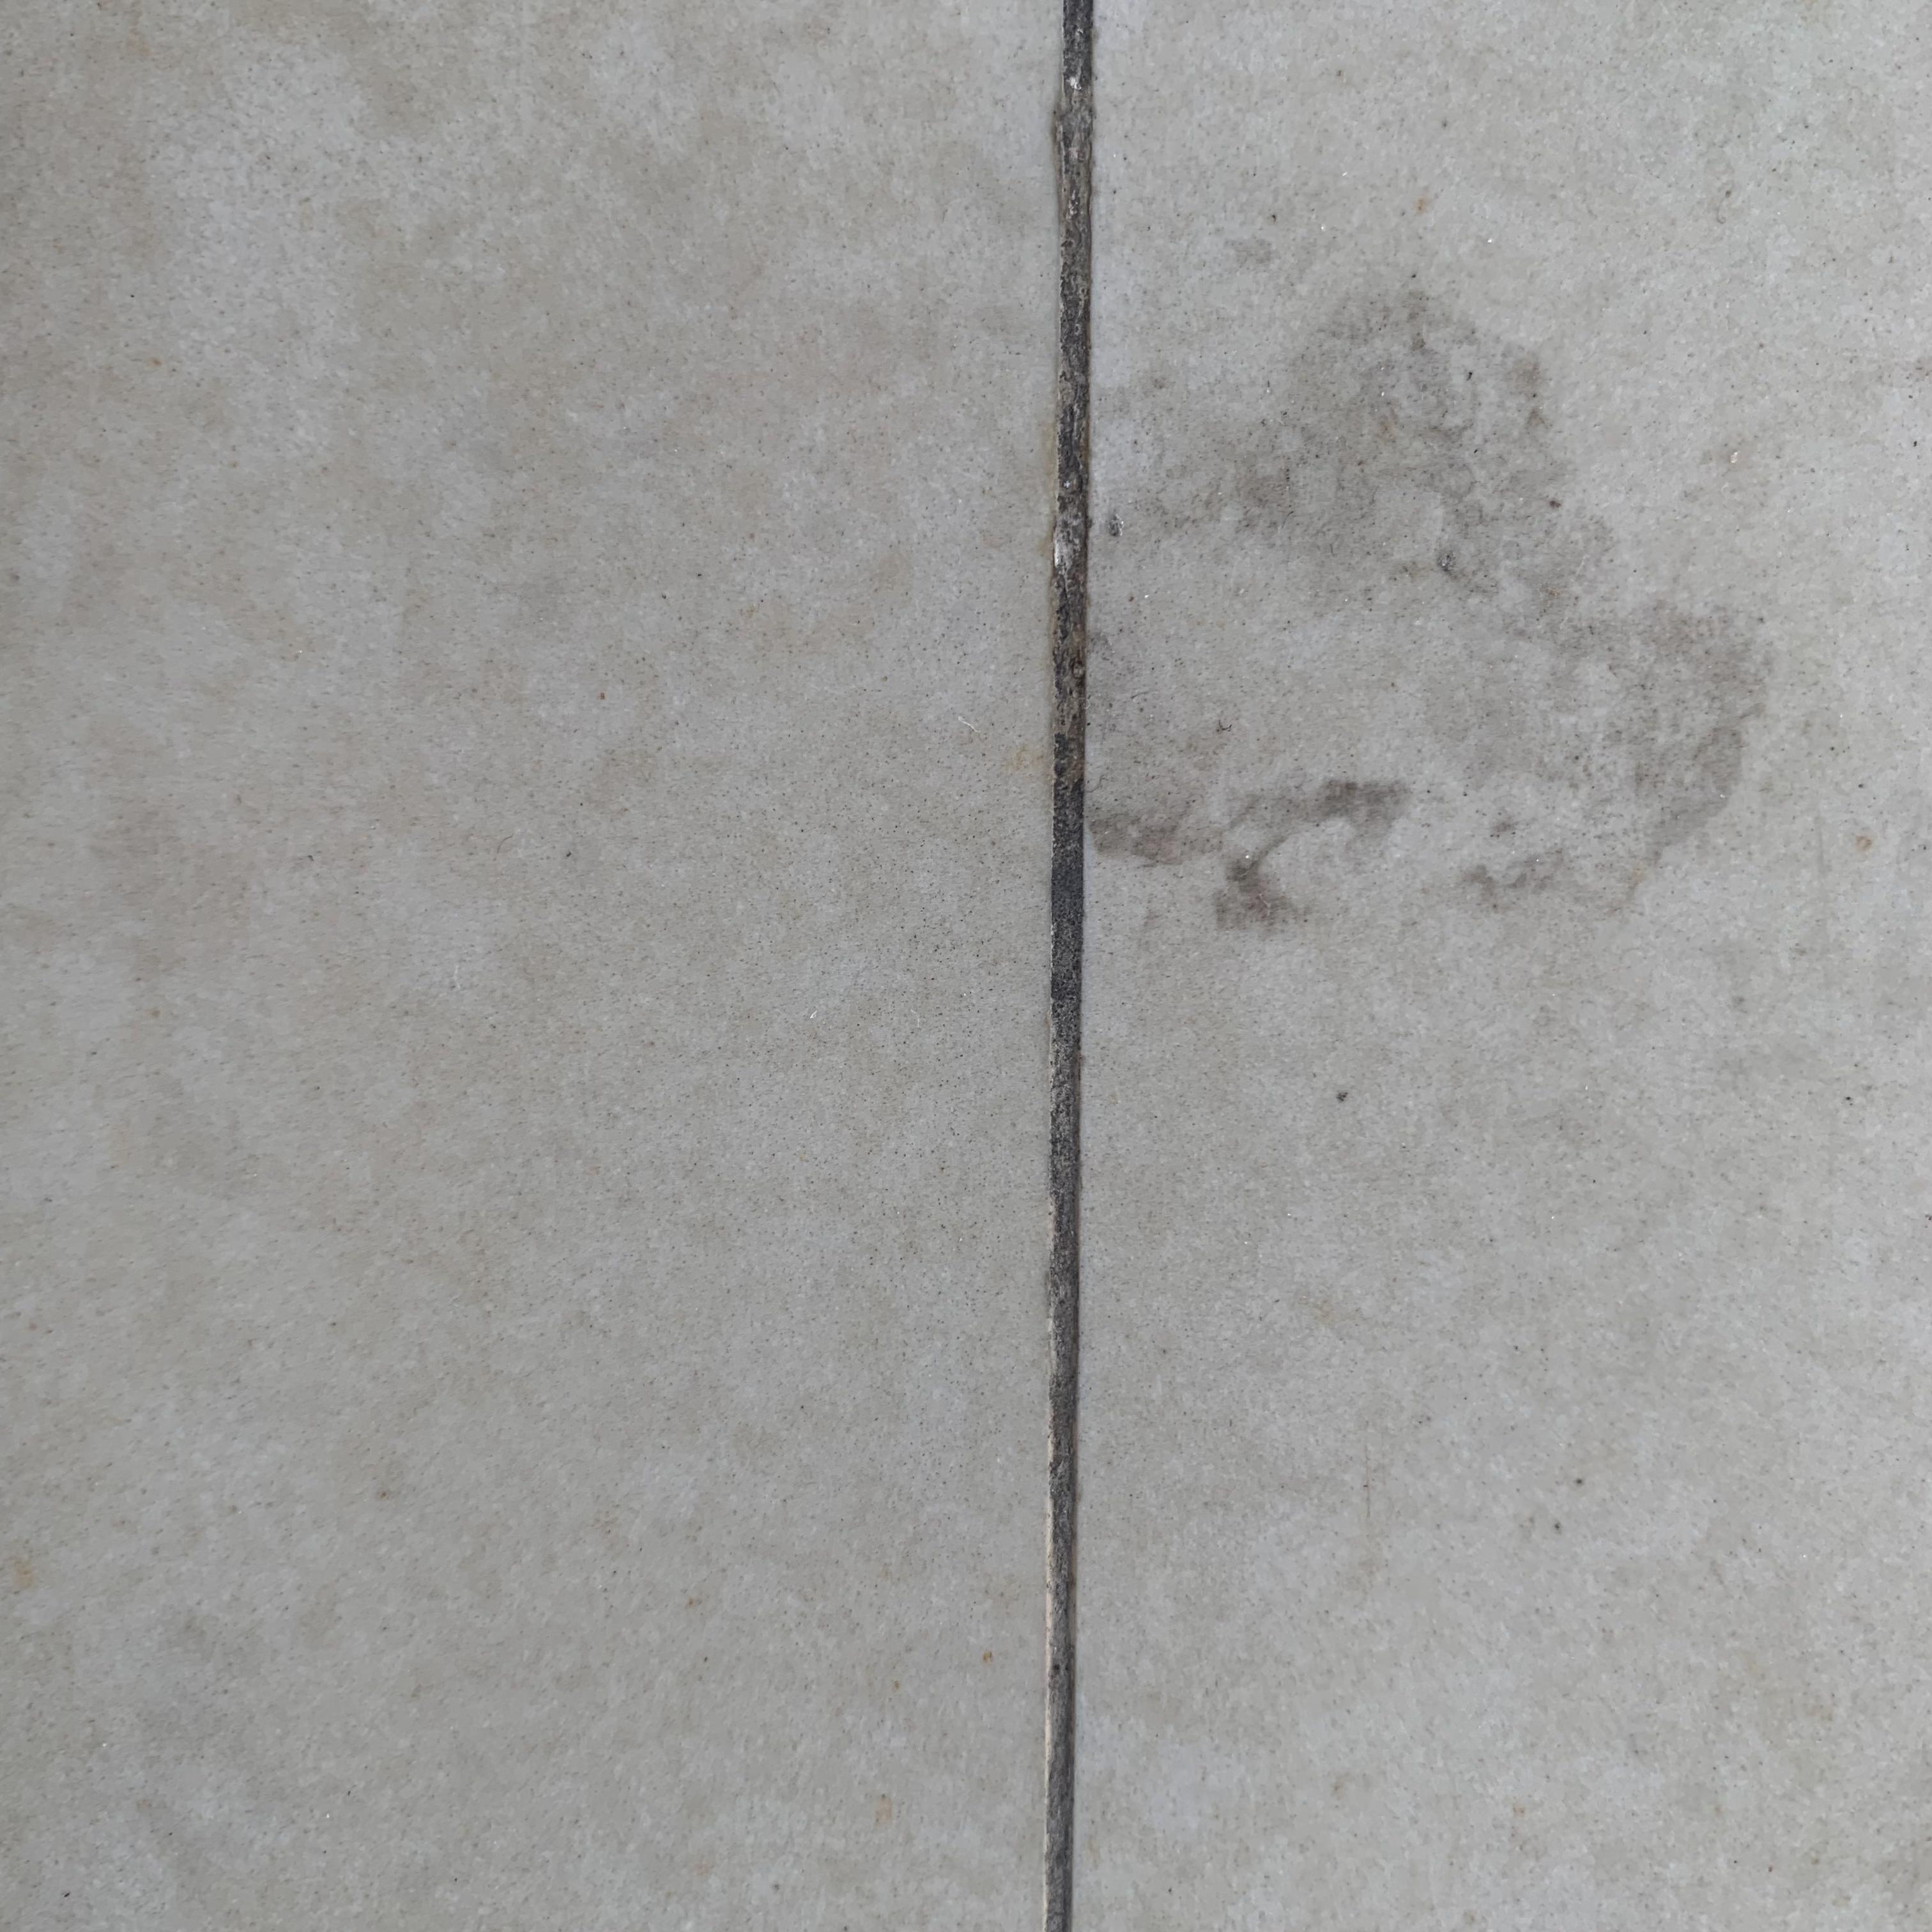grey spot: (1085, 281, 1775, 927)
